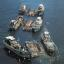fishing boat: (0, 32, 34, 60), (41, 24, 59, 56), (5, 14, 24, 32), (32, 15, 43, 33), (36, 2, 45, 16), (18, 2, 26, 14)
